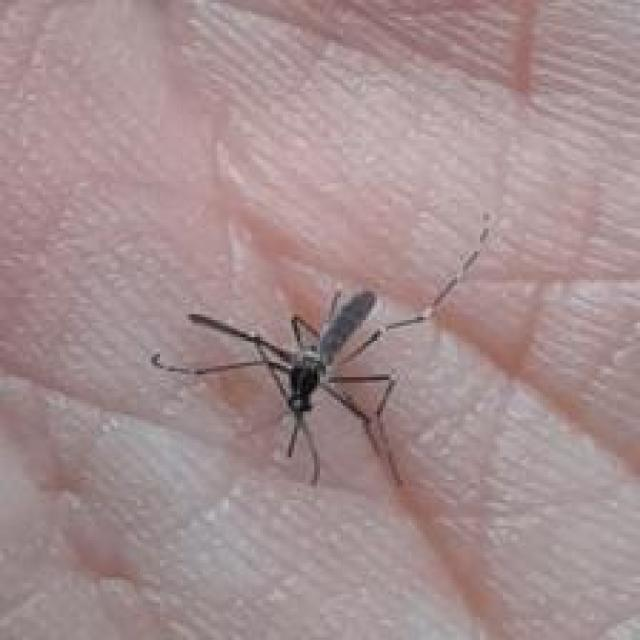Aedes albopictus: (148, 216, 492, 490)
